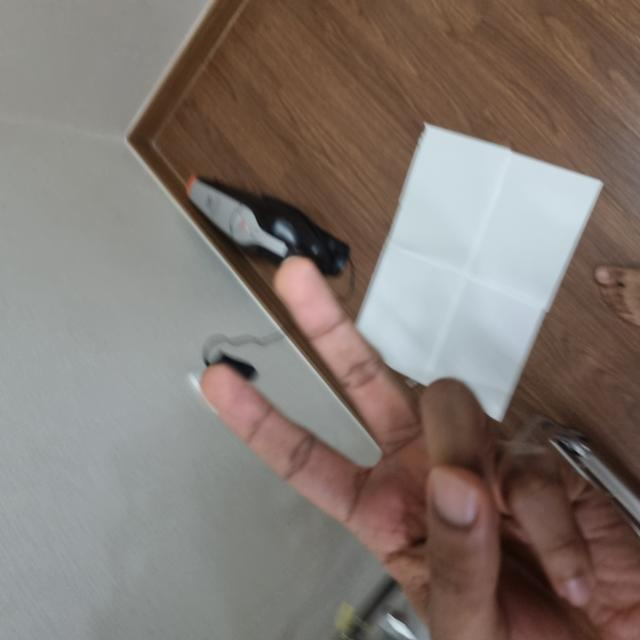Scissors: (0, 203, 381, 639)
